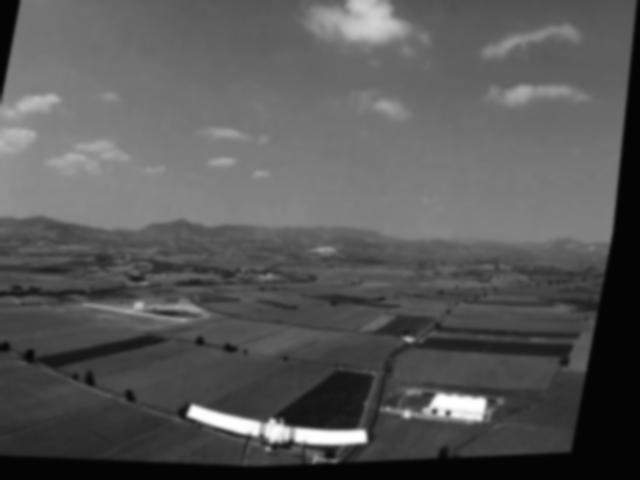hedef: (167, 376, 398, 473)
